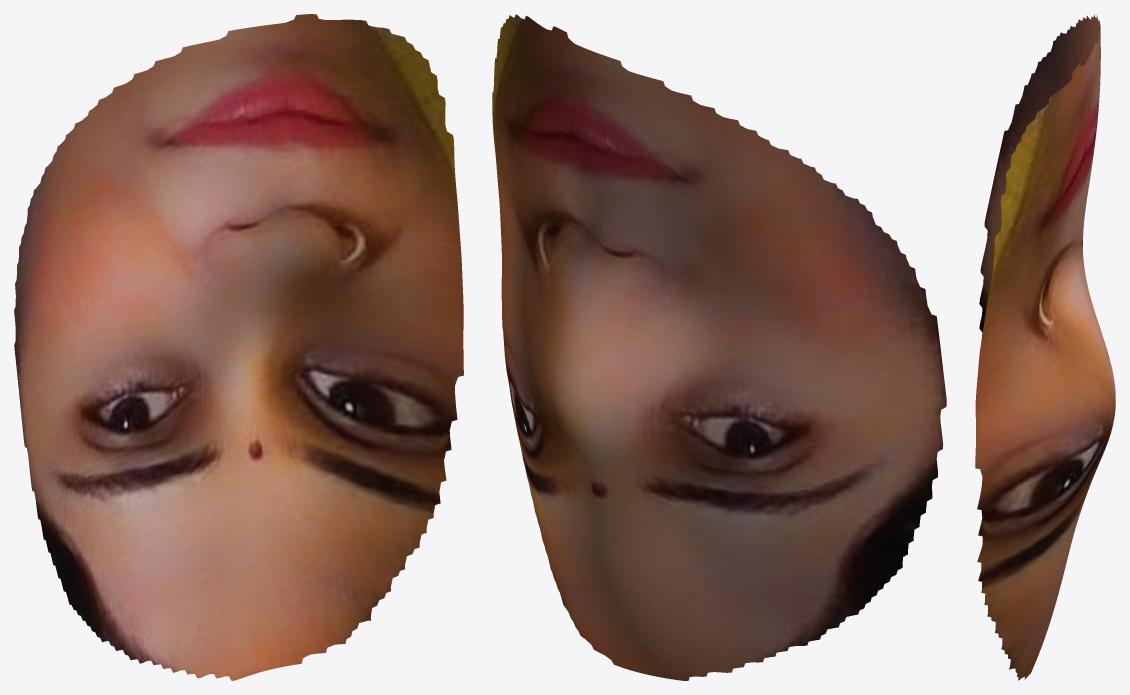
Rendered from f799a601-441c-47e6-87c6-5ecf126d3995.glb.
The picture shows the model from 3 angles, left to right: view 1: azimuth 30°, elevation 25°; view 2: azimuth 150°, elevation 25°; view 3: azimuth 270°, elevation 25°; orthographic projection. The views are drawn at different scales.
Parts seen in each view (by area): view 1: Face; view 2: Face; view 3: Face.
Boxes of the visible parts, bbox=[...] form: Face: bbox=[14, 14, 463, 680]; Face: bbox=[492, 14, 946, 680]; Face: bbox=[975, 14, 1115, 680].
Size of the model in its own units: 0.1455 by 0.1999 by 0.0409.
Materials: 1 (1 with a texture image).
